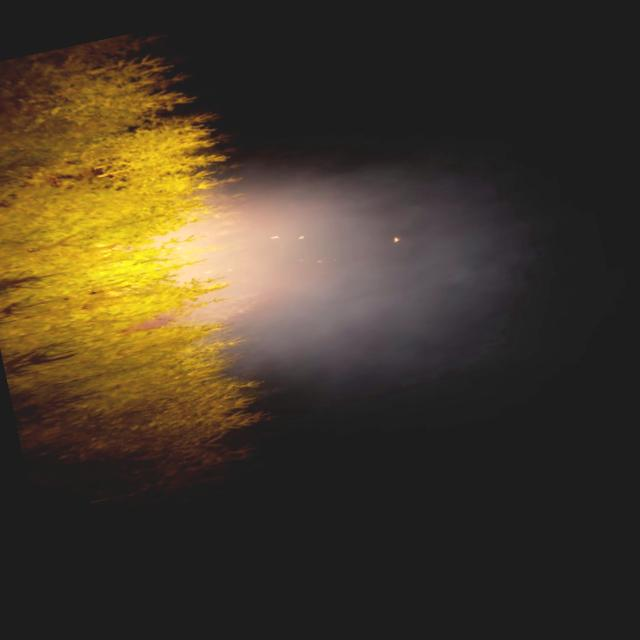smoke: (160, 136, 492, 402)
